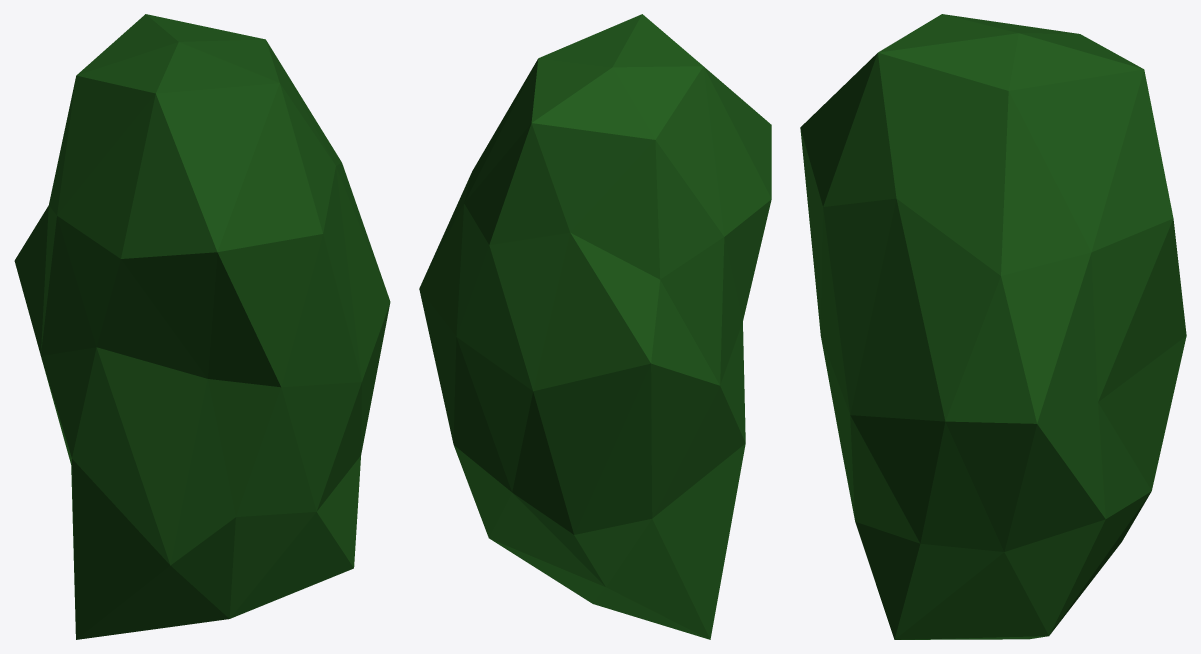
File: bush1.glb
3 views of the same model, side by side, from view 1: azimuth 30°, elevation 25°; view 2: azimuth 150°, elevation 25°; view 3: azimuth 270°, elevation 25° (orthographic). The views are drawn at different scales.
Parts seen in each view (by area): view 1: bush5; view 2: bush5; view 3: bush5.
Part boxes in pixels (x1,y1,x2,y2): bush5: [14, 14, 390, 639]; bush5: [419, 14, 771, 639]; bush5: [800, 14, 1186, 639].
Bounding box in the file's own units: 0.7272 × 1.25 × 0.7166.
